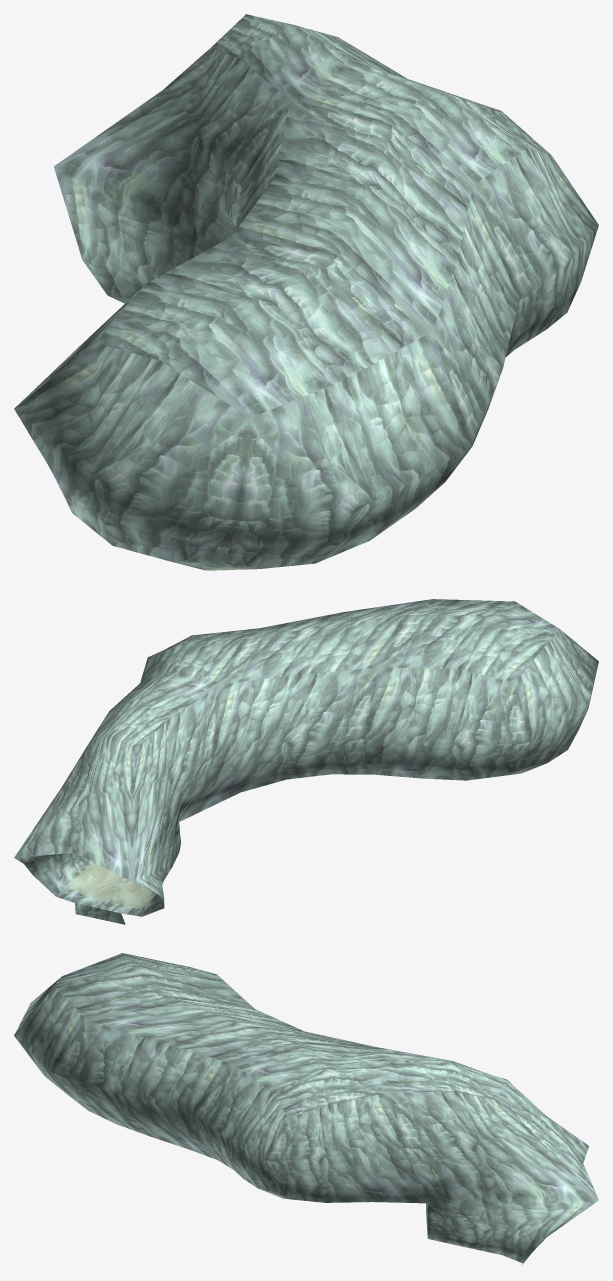
Rendered from TROLLHOLE02_PS-MAINCAVE08.fbx.
The picture shows the model from 3 angles, top to bottom: view 1: azimuth 30°, elevation 25°; view 2: azimuth 150°, elevation 25°; view 3: azimuth 270°, elevation 25°; orthographic projection. The views are drawn at different scales.
Visible parts, largest first — view 1: TROLLHOLE02_PS-MAINCAVE08; view 2: TROLLHOLE02_PS-MAINCAVE08; view 3: TROLLHOLE02_PS-MAINCAVE08.
Boxes of the visible parts, left/top/right/bottom form: TROLLHOLE02_PS-MAINCAVE08: left=14, top=14, right=598, bottom=570; TROLLHOLE02_PS-MAINCAVE08: left=14, top=599, right=598, bottom=924; TROLLHOLE02_PS-MAINCAVE08: left=14, top=953, right=598, bottom=1265.
Bounding box in the file's own units: 168771 × 92702 × 245192.
4 materials, 4 textured.
